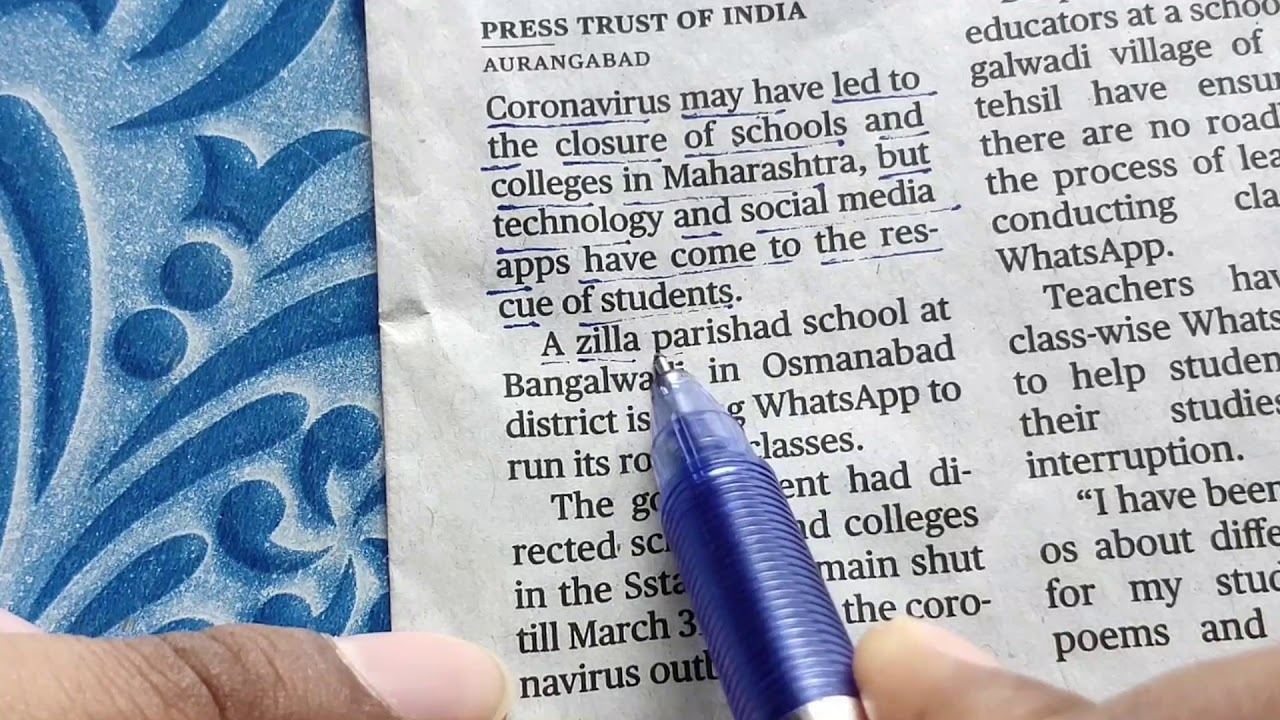news_paper: (319, 1, 1280, 715)
